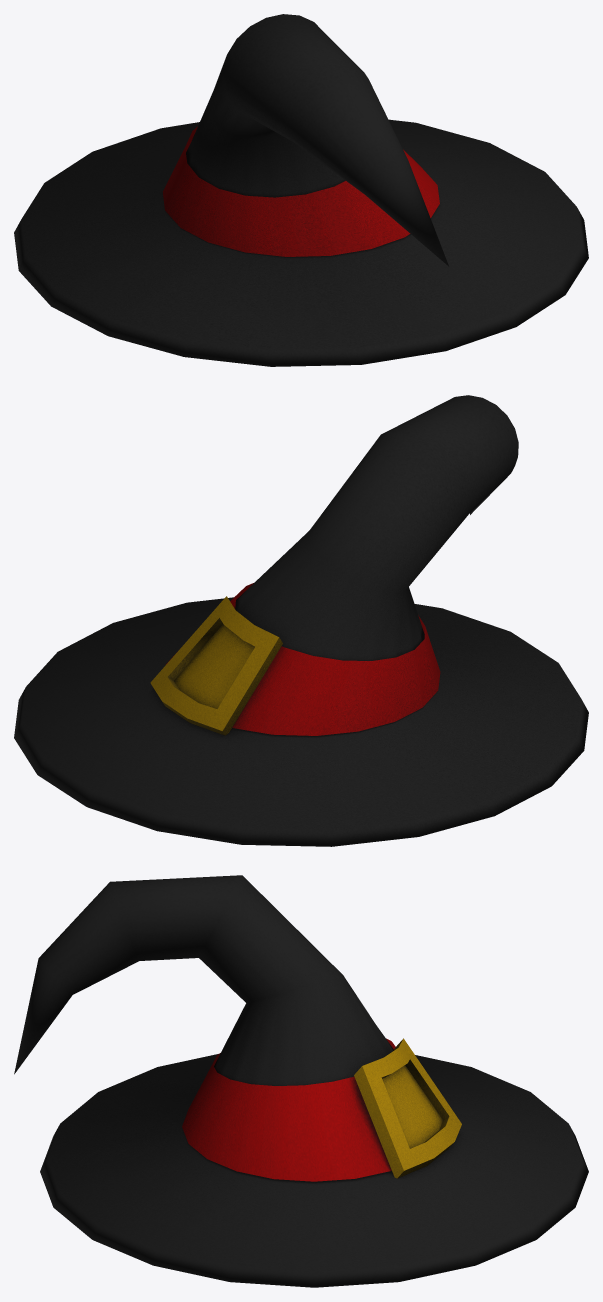
Rendered from witch_hat.fbx.
The picture shows the model from 3 angles, top to bottom: view 1: azimuth 30°, elevation 25°; view 2: azimuth 150°, elevation 25°; view 3: azimuth 270°, elevation 25°; orthographic projection. The views are drawn at different scales.
Visible parts, largest first — view 1: witch_hat; view 2: witch_hat; view 3: witch_hat.
Boxes of the visible parts, box(x1,y1,x2,y2) form: witch_hat: box(14, 14, 588, 366); witch_hat: box(14, 395, 588, 846); witch_hat: box(14, 875, 588, 1287).
Bounding box in the file's own units: 1.98 × 1.04 × 2.07.
